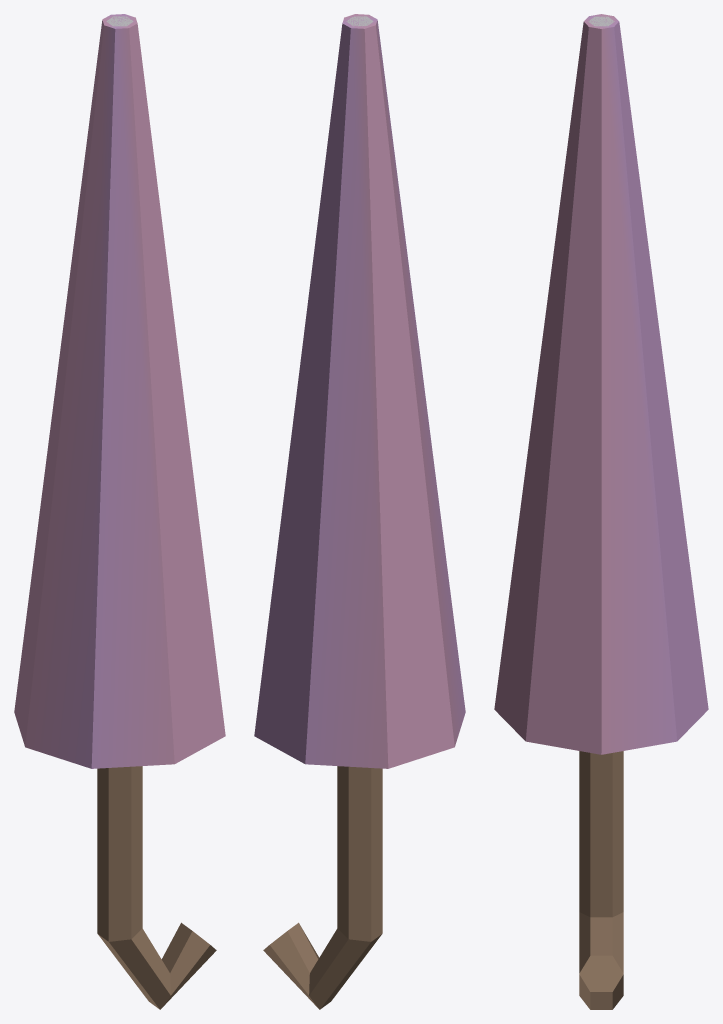
File: UmbrellaSword.fbx
The picture shows the model from 3 angles, left to right: view 1: azimuth 30°, elevation 25°; view 2: azimuth 150°, elevation 25°; view 3: azimuth 270°, elevation 25°; orthographic projection. The views are drawn at different scales.
Visible parts, largest first — view 1: Prop_UmbrellaSword; view 2: Prop_UmbrellaSword; view 3: Prop_UmbrellaSword.
Part boxes in pixels (bbox=[...]): Prop_UmbrellaSword: bbox=[14, 14, 225, 1009]; Prop_UmbrellaSword: bbox=[254, 14, 465, 1009]; Prop_UmbrellaSword: bbox=[494, 14, 708, 1009].
Bounding box in the file's own units: 0.24 × 1.2 × 0.24.
